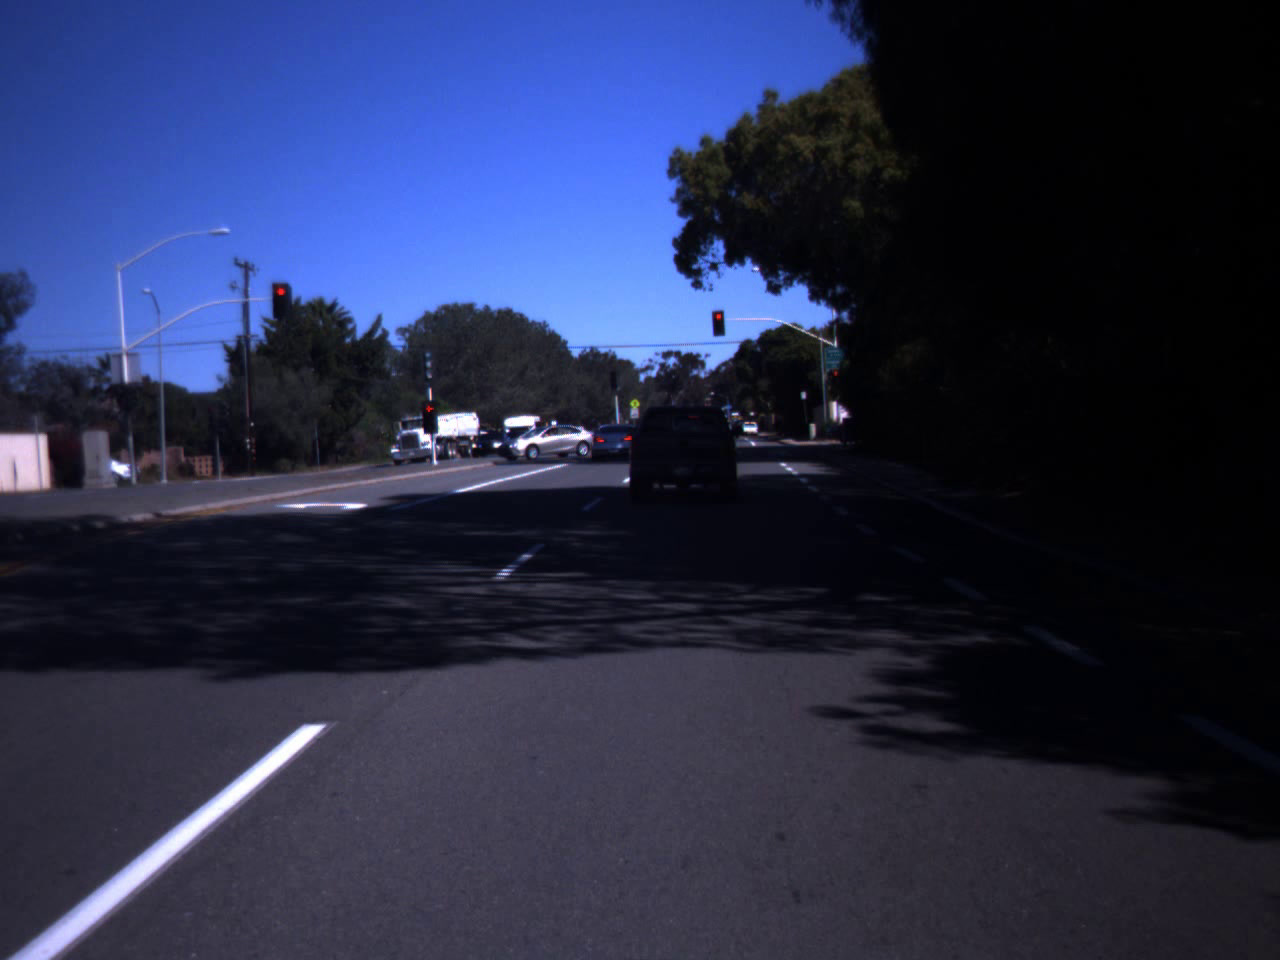stop: (422, 403, 437, 430), (272, 288, 290, 306), (830, 368, 842, 390), (712, 312, 724, 330)
